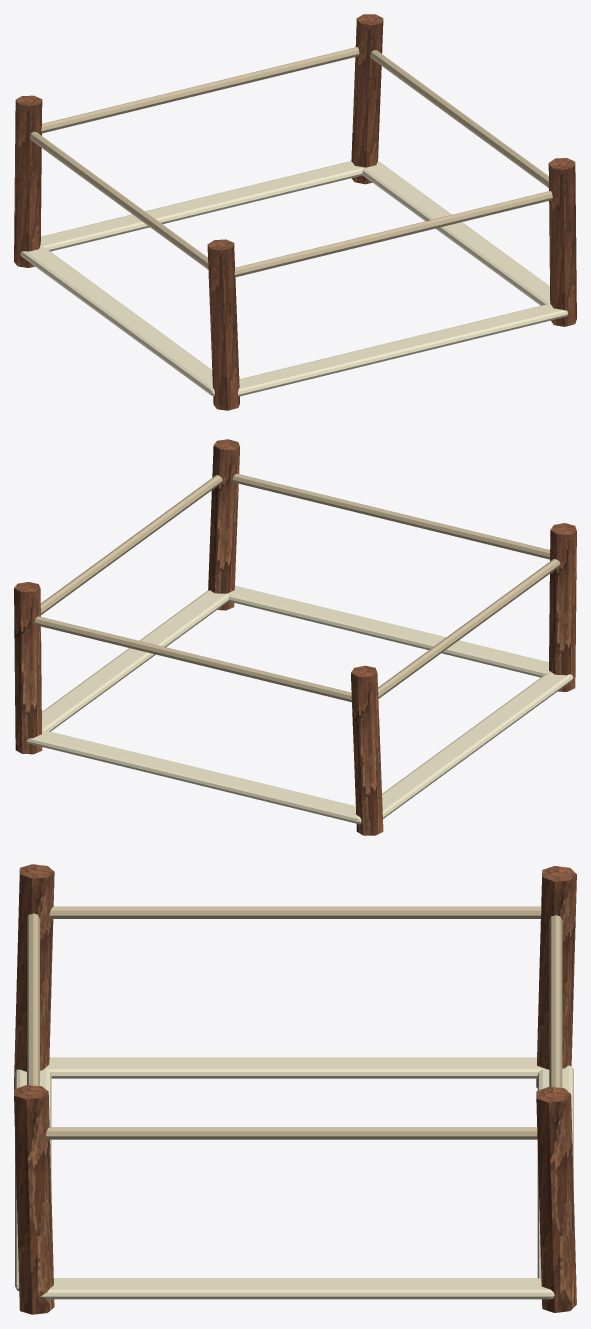
File: construction-site.glb
3 views of the same model, one above another, from view 1: azimuth 30°, elevation 25°; view 2: azimuth 150°, elevation 25°; view 3: azimuth 270°, elevation 25° (orthographic). The views are drawn at different scales.
Visible parts, largest first — view 1: outlineX_P, outlineX_M, outlineY_M, stakeMP, outlineY_P, stakePP, stakeMM, stakePM, ropeX_P, ropeX_M, ropeY_M, ropeY_P; view 2: outlineX_M, outlineX_P, outlineY_M, stakeMM, outlineY_P, stakePM, stakeMP, stakePP, ropeX_M, ropeX_P, ropeY_M, ropeY_P; view 3: outlineY_P, outlineY_M, stakePP, stakePM, ropeY_P, ropeY_M, stakeMM, stakeMP, ropeX_M, ropeX_P, outlineX_M, outlineX_P.
Boxes of the visible parts, box(x1,y1,x2,y2) form: outlineX_P: box(238, 304, 568, 396); outlineX_M: box(40, 161, 364, 251); outlineY_M: box(20, 246, 214, 395); stakeMP: box(207, 239, 239, 410); outlineY_P: box(362, 161, 550, 305); stakePP: box(548, 158, 576, 326); stakeMM: box(14, 95, 42, 267); stakePM: box(351, 14, 383, 184); ropeX_P: box(234, 191, 552, 277); ropeX_M: box(41, 47, 359, 133); ropeY_M: box(29, 131, 208, 269); ropeY_P: box(370, 50, 548, 187); outlineX_M: box(26, 730, 361, 823); outlineX_P: box(227, 586, 550, 677); outlineY_M: box(382, 672, 573, 818); stakeMM: box(351, 665, 383, 835); outlineY_P: box(42, 590, 228, 731); stakePM: box(14, 582, 42, 754); stakeMP: box(549, 523, 576, 691); stakePP: box(208, 439, 239, 610); ropeX_M: box(34, 616, 351, 702); ropeX_P: box(232, 474, 549, 559); ropeY_M: box(378, 559, 560, 698); ropeY_P: box(40, 475, 222, 614); outlineY_P: box(41, 1278, 554, 1299); outlineY_M: box(44, 1057, 544, 1078); stakePP: box(14, 1085, 54, 1314); stakePM: box(536, 1087, 576, 1312); ropeY_P: box(46, 1127, 537, 1139); ropeY_M: box(49, 906, 541, 918); stakeMM: box(536, 866, 576, 1087); stakeMP: box(14, 864, 54, 1089); ropeX_M: box(549, 915, 562, 1087); ropeX_P: box(27, 913, 39, 1085); outlineX_M: box(537, 1065, 573, 1278); outlineX_P: box(15, 1068, 51, 1290).
Bounding box in the file's own units: 1.08 × 0.4522 × 1.08.
Materials: 3 (1 with a texture image).
